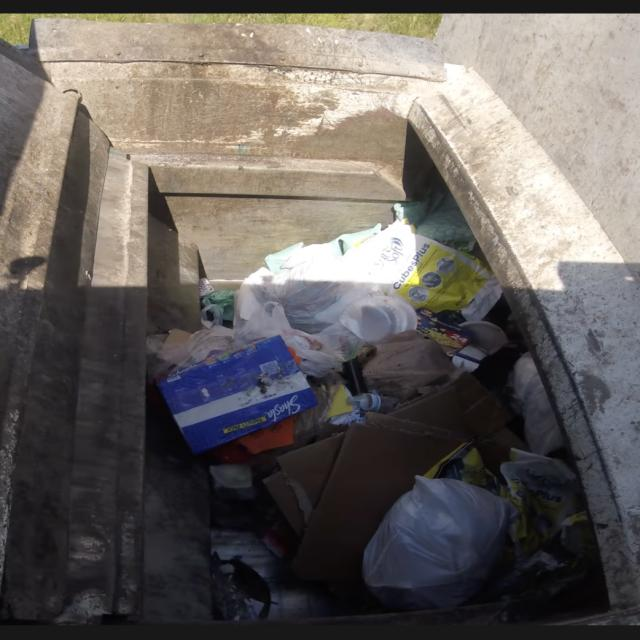bag: (369, 466, 513, 615)
cardboard: (130, 314, 333, 440), (265, 414, 409, 589)
paper: (325, 214, 501, 330), (358, 331, 477, 404)
